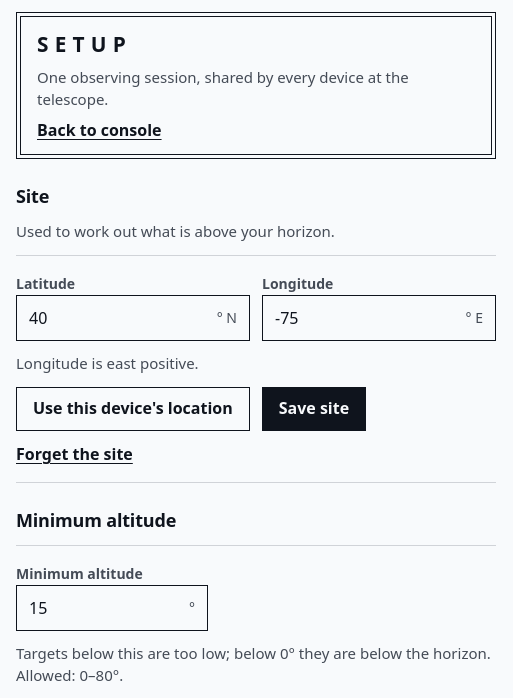
Test case: Setup › saves a minimum altitude of 30° and acknowledges it
Step 1. Type "30" into the field labelled "Minimum altitude" → (103, 608), box [17,586,189,630]
(page scrolled)
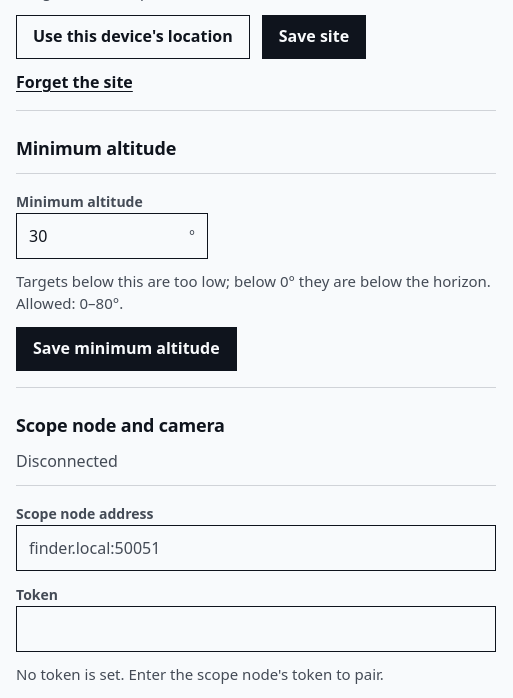
Step 2. Click the button "Save minimum altitude" → (126, 349), box [16,327,237,371]
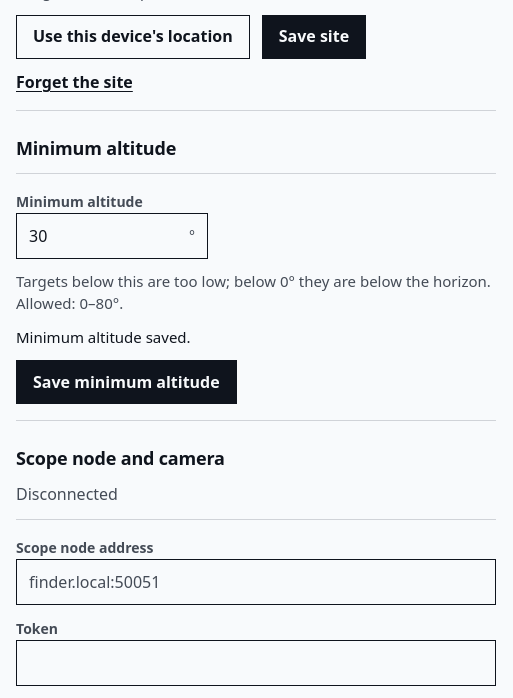
Expected: the text "Minimum altitude saved." is shown, [16,327,191,347]
